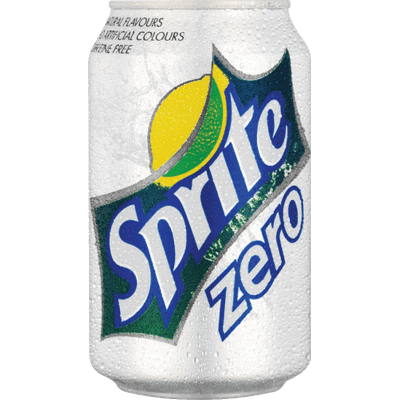sprite: (110, 90, 287, 334)
